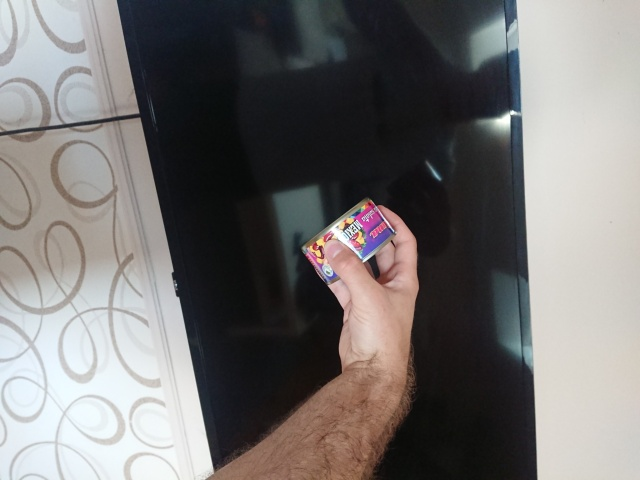Giana Tuna Salad Mexico 185g: (297, 195, 401, 290)
